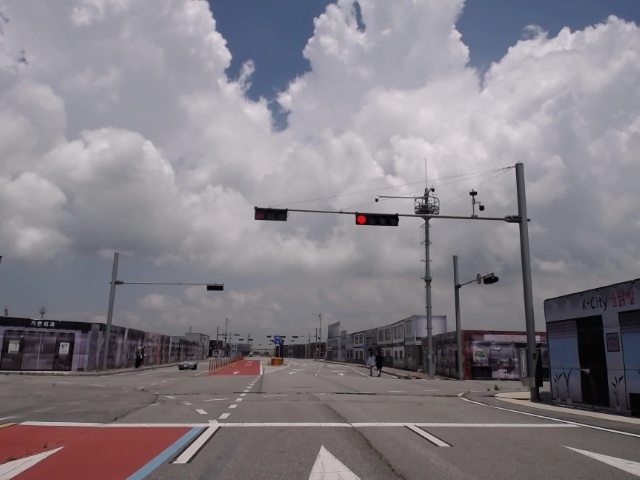red_4: (356, 214, 398, 226)
